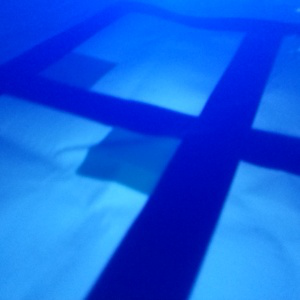bottom_left: (75, 112, 184, 195)
top_right: (21, 51, 116, 99)
